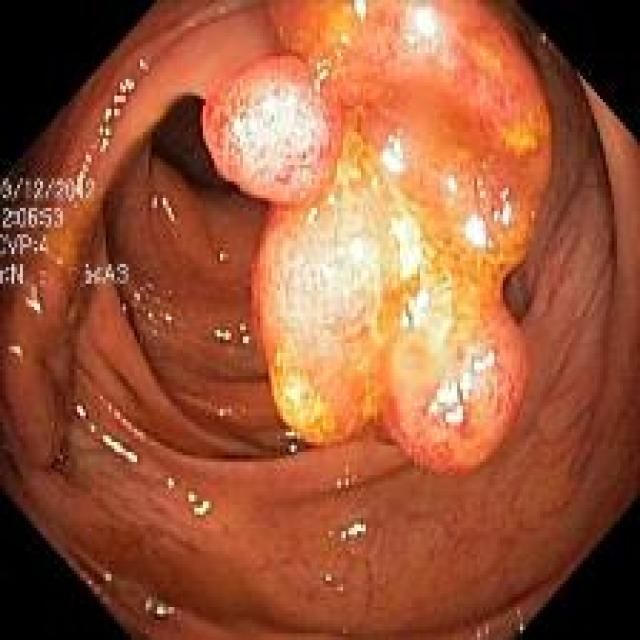Polyps: (202, 3, 550, 473), (202, 55, 341, 205)
